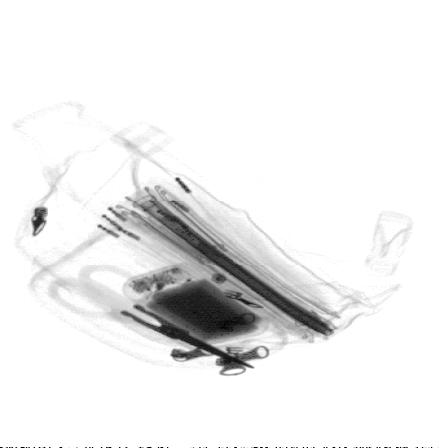Powerbank: (122, 261, 272, 349)
Scissors: (49, 262, 258, 375)
